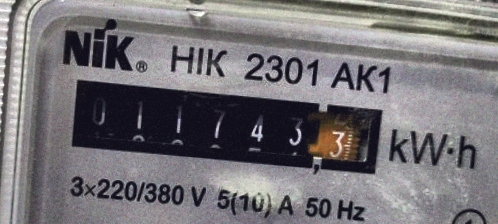0: (86, 91, 108, 129)
1: (169, 99, 187, 134), (132, 96, 145, 130)
3: (282, 112, 304, 148), (325, 127, 346, 162)
4: (246, 109, 265, 144)
7: (207, 104, 228, 140)
screen: (54, 66, 395, 187)
